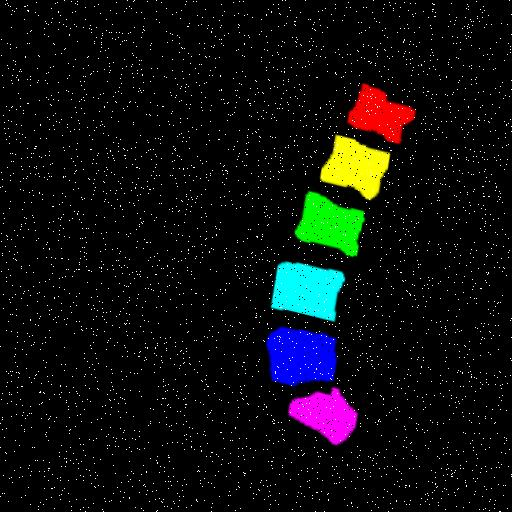L1: (344, 85, 412, 145)
L2: (315, 137, 386, 200)
L3: (290, 193, 359, 257)
L4: (263, 262, 337, 322)
L5: (258, 327, 330, 388)
S1: (278, 389, 347, 445)
